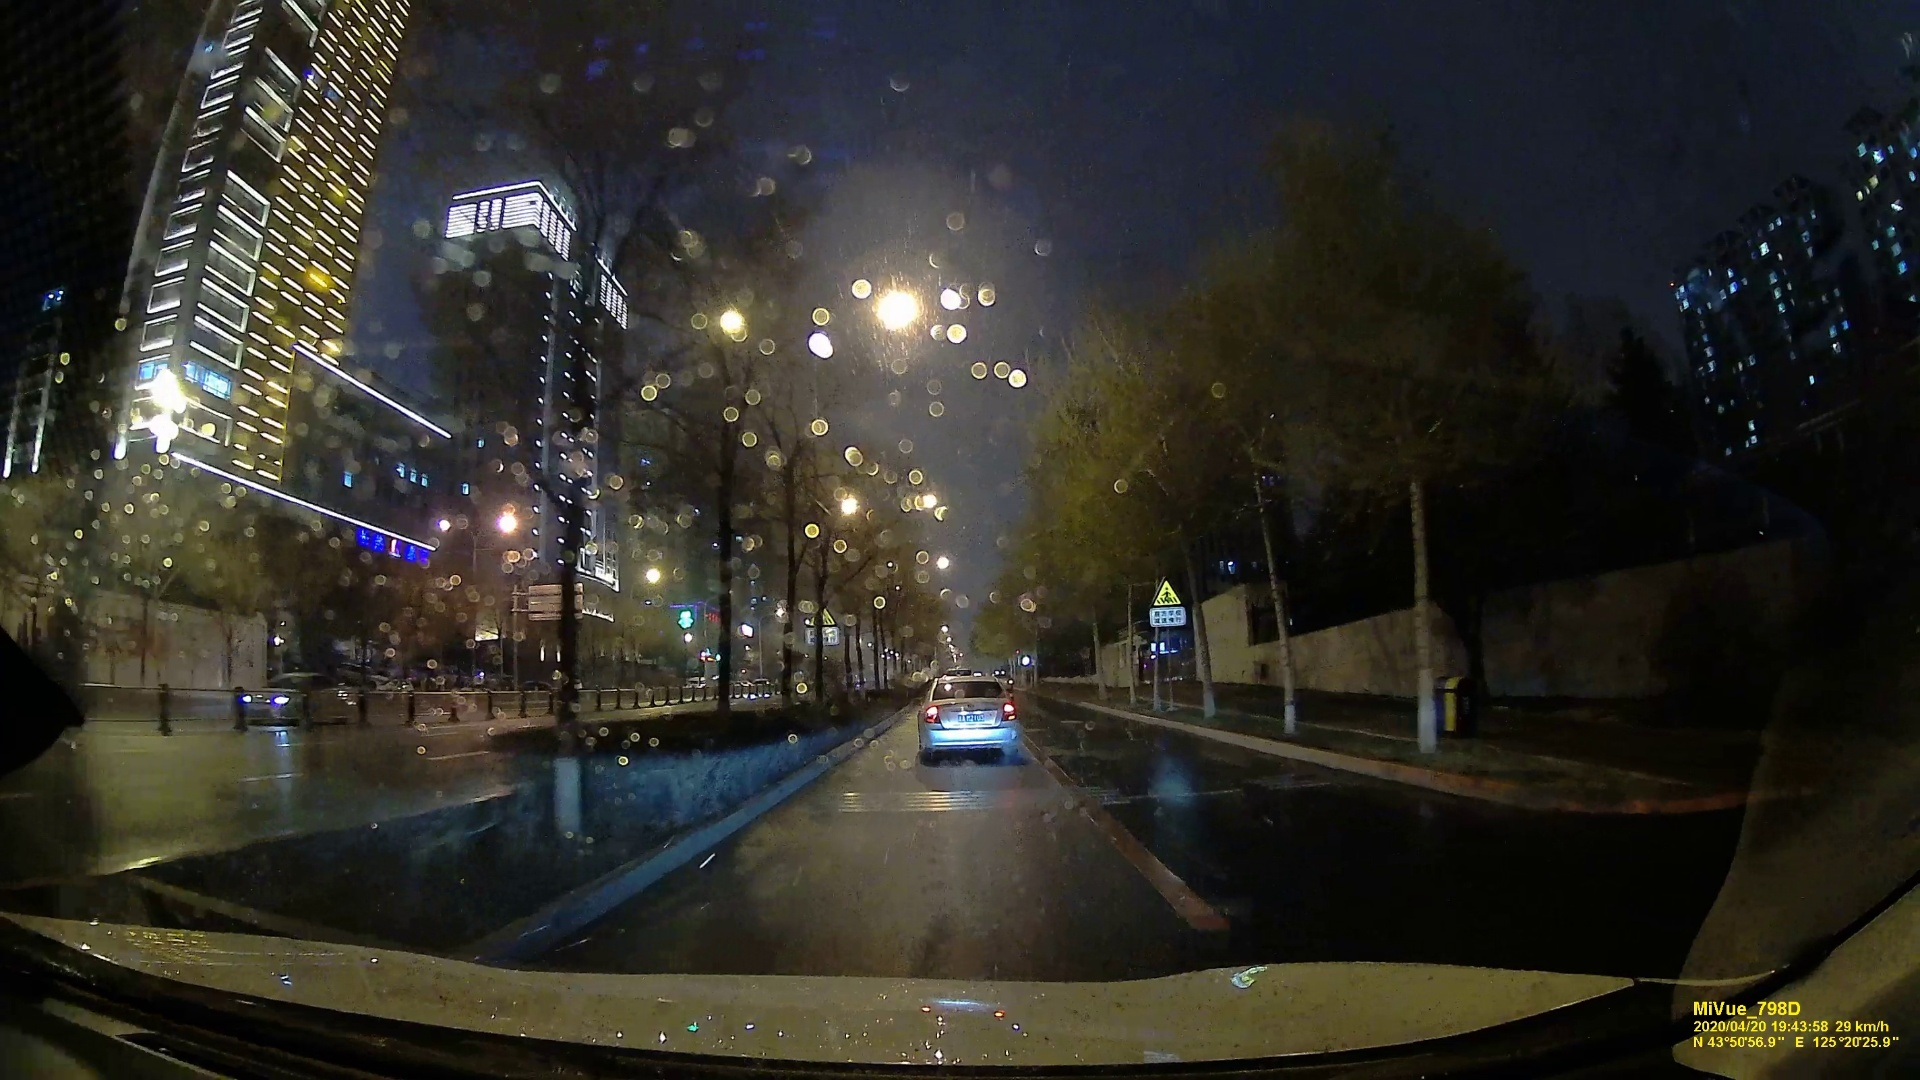traffic_sign: (1151, 578, 1184, 626)
vehicle: (918, 670, 1019, 765), (233, 666, 365, 735)
